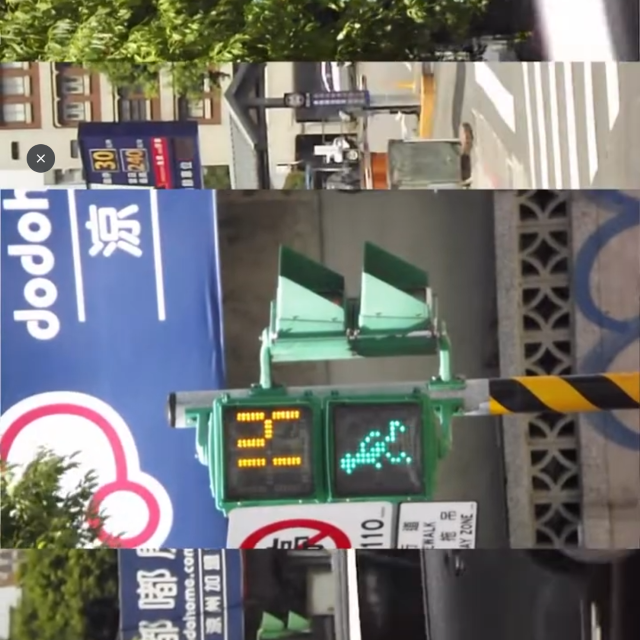green_light: (212, 400, 432, 501)
